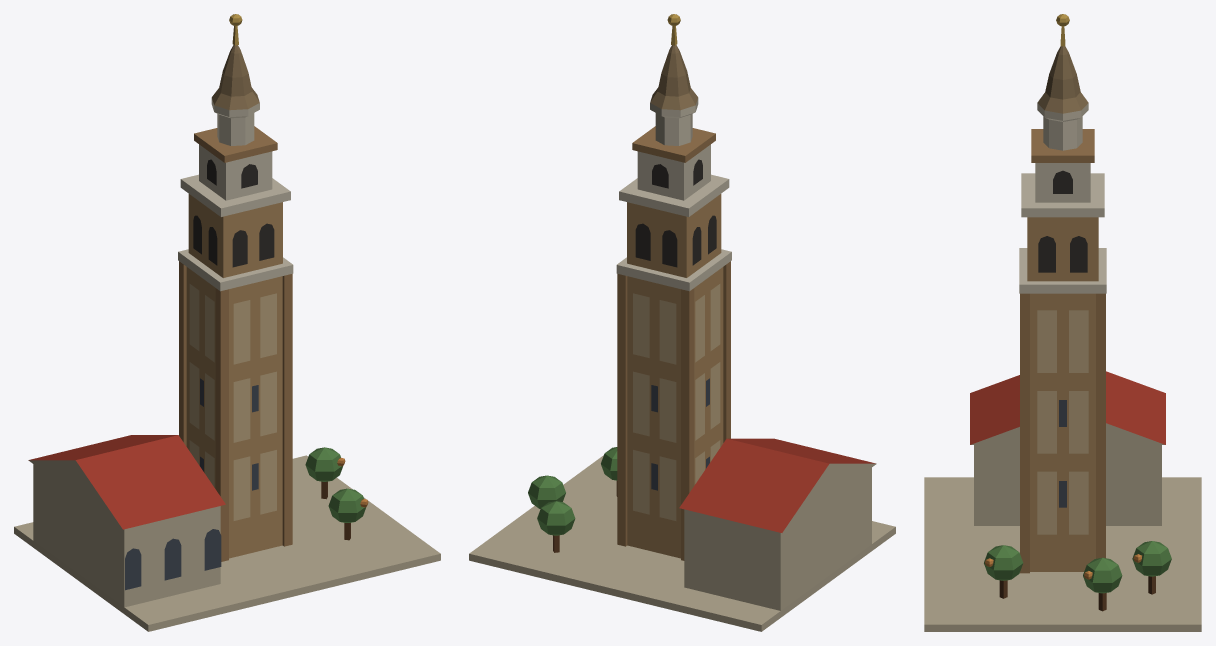
Rendered from giralda.glb.
The picture shows the model from 3 angles, left to right: view 1: azimuth 30°, elevation 25°; view 2: azimuth 150°, elevation 25°; view 3: azimuth 270°, elevation 25°; orthographic projection. The views are drawn at different scales.
Parts seen in each view (by area): view 1: giralda; view 2: giralda; view 3: giralda.
Boxes of the visible parts, left/top/right/bottom form: giralda: left=14, top=14, right=440, bottom=631; giralda: left=469, top=14, right=895, bottom=631; giralda: left=924, top=14, right=1201, bottom=631.
Size of the model in its own units: 1.78 by 3.06 by 1.4.
